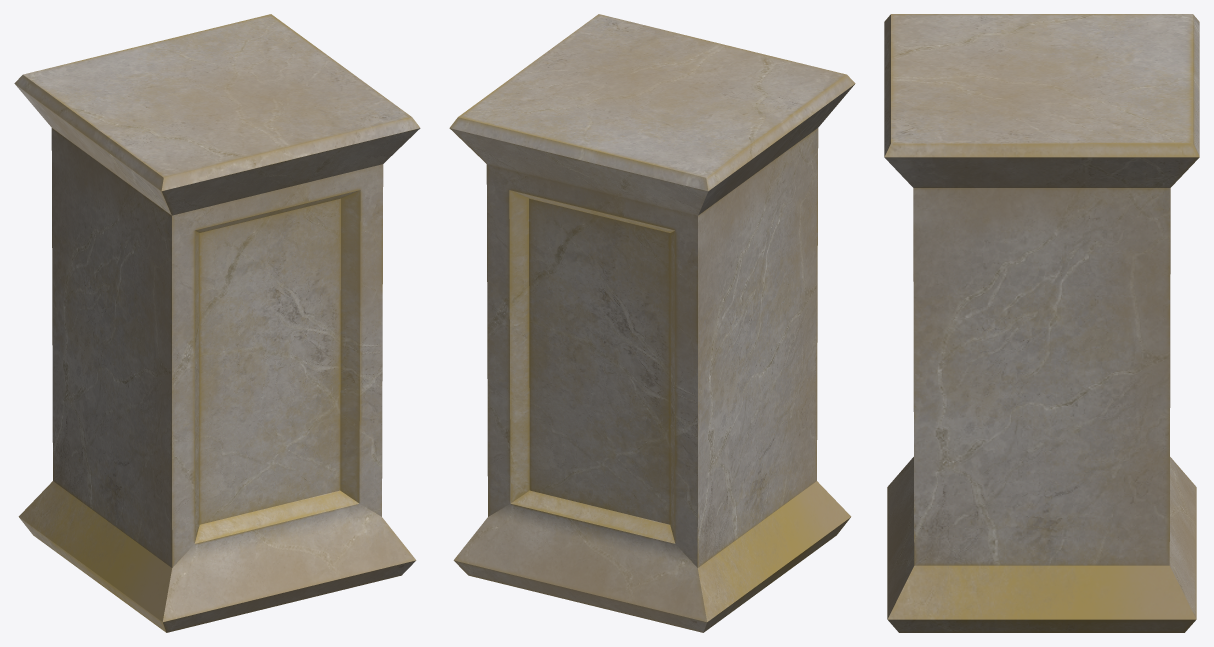
Rendered from railing end 1.fbx.
The picture shows the model from 3 angles, left to right: view 1: azimuth 30°, elevation 25°; view 2: azimuth 150°, elevation 25°; view 3: azimuth 270°, elevation 25°; orthographic projection. The views are drawn at different scales.
Parts seen in each view (by area): view 1: end_column; view 2: end_column; view 3: end_column.
Boxes of the visible parts, x1,y1,x2,y2 form: end_column: (14,14,420,632); end_column: (449,14,855,632); end_column: (884,14,1199,632).
Bounding box in the file's own units: 42.72 × 72.43 × 42.04.
